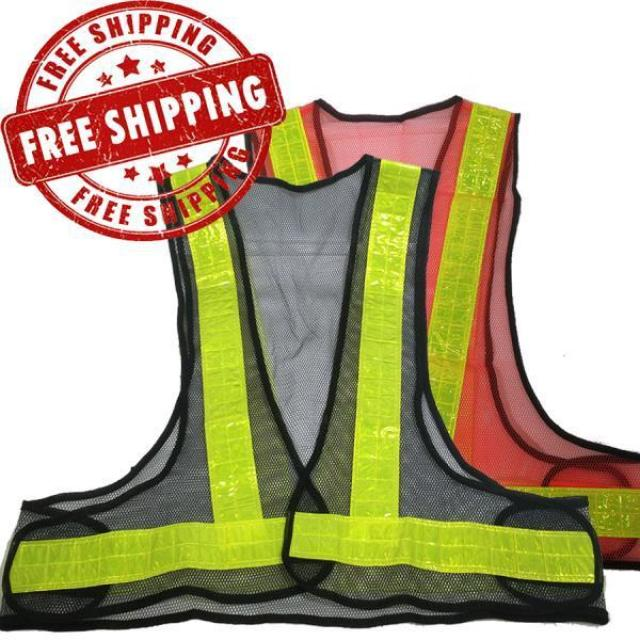Vest: (1, 147, 607, 634), (245, 101, 639, 571)
